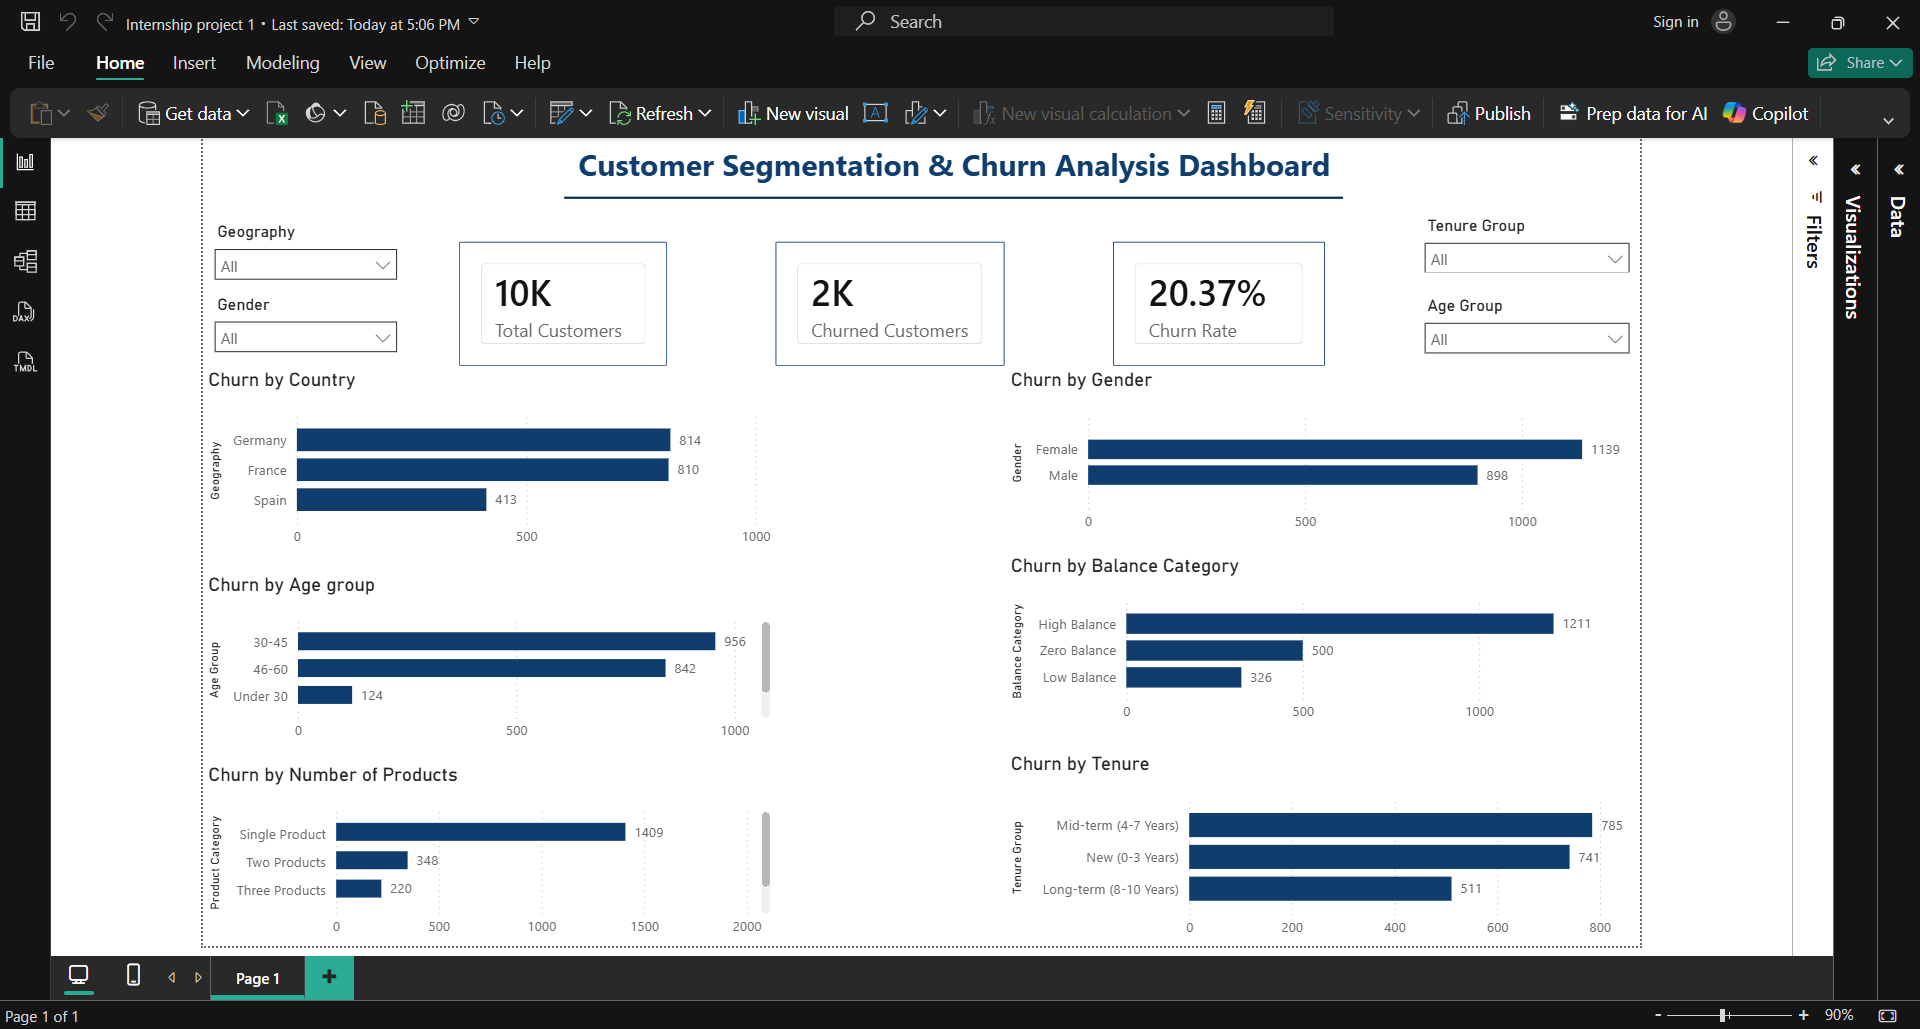

The page's visual inventory and layout, read from the dashboard file:
{"tool":"powerbi","page":{"name":"Page 1","canvas":[1280,720],"ordinal":0},"visuals":[{"type":"cardVisual","fields":{"Data":["Sum(European_Bank (2).Exited)"]},"box":[510,92.5,203.8,110],"z":0},{"type":"cardVisual","fields":{"Data":["European_Bank (2).Overall Churn Rate"]},"box":[810,92.5,188.8,110],"z":1000},{"type":"clusteredBarChart","title":" Churn by Country","fields":{"Category":["European_Bank (2).Geography"],"Y":["European_Bank (2).Churned Customers"]},"box":[0,204.9,510.4,168.1],"z":2000},{"type":"clusteredBarChart","title":"Churn by Age group ","fields":{"Y":["European_Bank (2).Churned Customers"],"Category":["European_Bank (2).Age Group"]},"box":[0,387.7,510.4,158.3],"z":3000},{"type":"clusteredBarChart","title":"Churn by Gender ","fields":{"Category":["European_Bank (2).Gender"],"Y":["European_Bank (2).Churned Customers"]},"box":[714.1,204.9,565.6,154.6],"z":4000},{"type":"clusteredBarChart","title":"Churn by Balance Category","fields":{"Category":["European_Bank (2).Balance Category"],"Y":["European_Bank (2).Churned Customers"]},"box":[714.1,370.6,565.6,158.3],"z":5000},{"type":"clusteredBarChart","title":"Churn by Number of Products","fields":{"Category":["European_Bank (2).Product Category"],"Y":["European_Bank (2).Churned Customers"]},"box":[0,557.1,510.4,163.2],"z":6000},{"type":"clusteredBarChart","title":"Churn by Tenure","fields":{"Category":["European_Bank (2).Tenure Group"],"Y":["European_Bank (2).Churned Customers"]},"box":[714.1,546,565.6,174.2],"z":7000},{"type":"textbox","box":[330,0,685,53.8],"z":8000},{"type":"slicer","fields":{"Values":["European_Bank (2).Geography"]},"box":[0,69.9,182.8,56.4],"z":9000},{"type":"slicer","fields":{"Values":["European_Bank (2).Gender"]},"box":[0,135,182.8,67.5],"z":10000},{"type":"slicer","fields":{"Values":["European_Bank (2).Age Group"]},"box":[1077.5,136.2,202.5,66.2],"z":11000},{"type":"slicer","fields":{"Values":["European_Bank (2).Tenure Group"]},"box":[1077.5,65,202.5,55],"z":12000},{"type":"cardVisual","fields":{"Data":["European_Bank (2).Total Customers"]},"box":[228.8,92.5,185,110],"z":13000},{"type":"shape","box":[321.2,15,693.8,77.5],"z":14000}]}

Visuals, with their boxes on the page's 1280x720 design canvas (x1, y1, x2, y2). These are canvas units, not pixel positions in the 1920x1029 screenshot, which may show the page scaled, cropped or inside an application window:
cardVisual - Sum(European_Bank (2).Exited): crop(510, 92, 714, 202)
cardVisual - European_Bank (2).Overall Churn Rate: crop(810, 92, 999, 202)
" Churn by Country" clusteredBarChart: crop(0, 205, 510, 373)
"Churn by Age group " clusteredBarChart: crop(0, 388, 510, 546)
"Churn by Gender " clusteredBarChart: crop(714, 205, 1280, 360)
"Churn by Balance Category" clusteredBarChart: crop(714, 371, 1280, 529)
"Churn by Number of Products" clusteredBarChart: crop(0, 557, 510, 720)
"Churn by Tenure" clusteredBarChart: crop(714, 546, 1280, 720)
textbox: crop(330, 0, 1015, 54)
slicer - European_Bank (2).Geography: crop(0, 70, 183, 126)
slicer - European_Bank (2).Gender: crop(0, 135, 183, 202)
slicer - European_Bank (2).Age Group: crop(1078, 136, 1280, 202)
slicer - European_Bank (2).Tenure Group: crop(1078, 65, 1280, 120)
cardVisual - European_Bank (2).Total Customers: crop(229, 92, 414, 202)
shape: crop(321, 15, 1015, 92)
